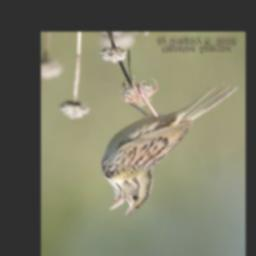Sparrow: (99, 73, 242, 221)
